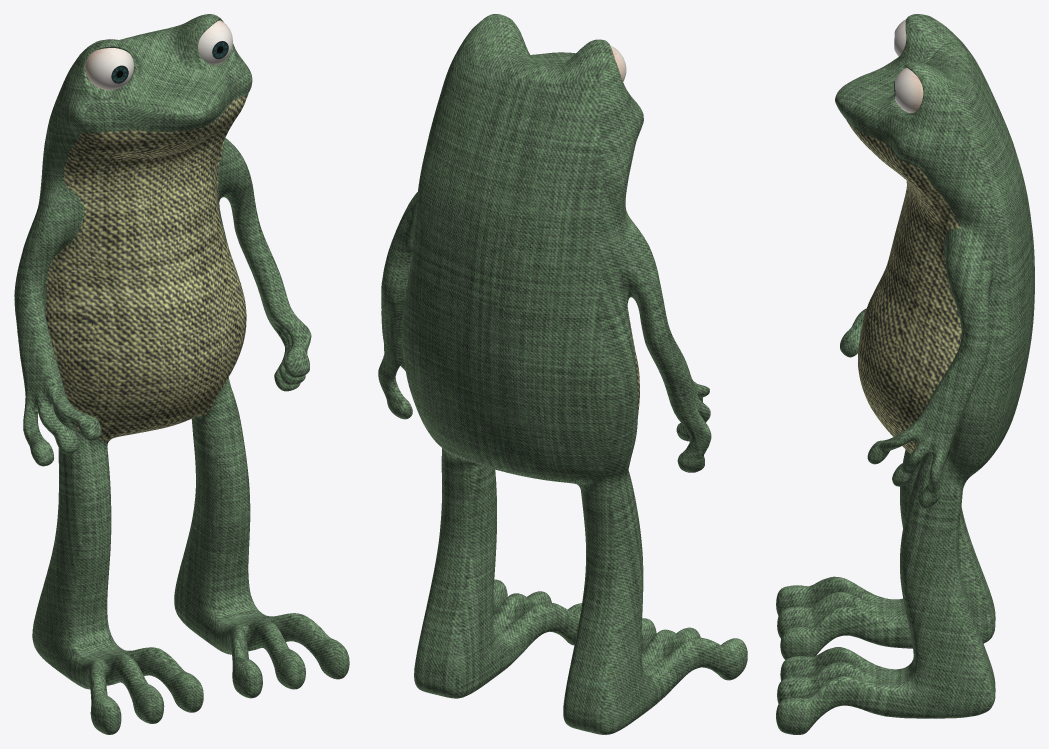
File: FrogSoftToy.fbx
3 views of the same model, side by side, from view 1: azimuth 30°, elevation 25°; view 2: azimuth 150°, elevation 25°; view 3: azimuth 270°, elevation 25° (orthographic). The views are drawn at different scales.
Visible parts, largest first — view 1: Cube, eyeball_1.003, eyeball_1; view 2: Cube; view 3: Cube, eyeball_1.
Part boxes in pixels (box(x1,y1,x2,y2)): Cube: box(14, 14, 349, 734); eyeball_1.003: box(85, 48, 134, 90); eyeball_1: box(198, 20, 232, 64); Cube: box(378, 14, 747, 734); Cube: box(776, 14, 1034, 734); eyeball_1: box(894, 68, 923, 112).
Size of the model in its own units: 442 by 897 by 330.
